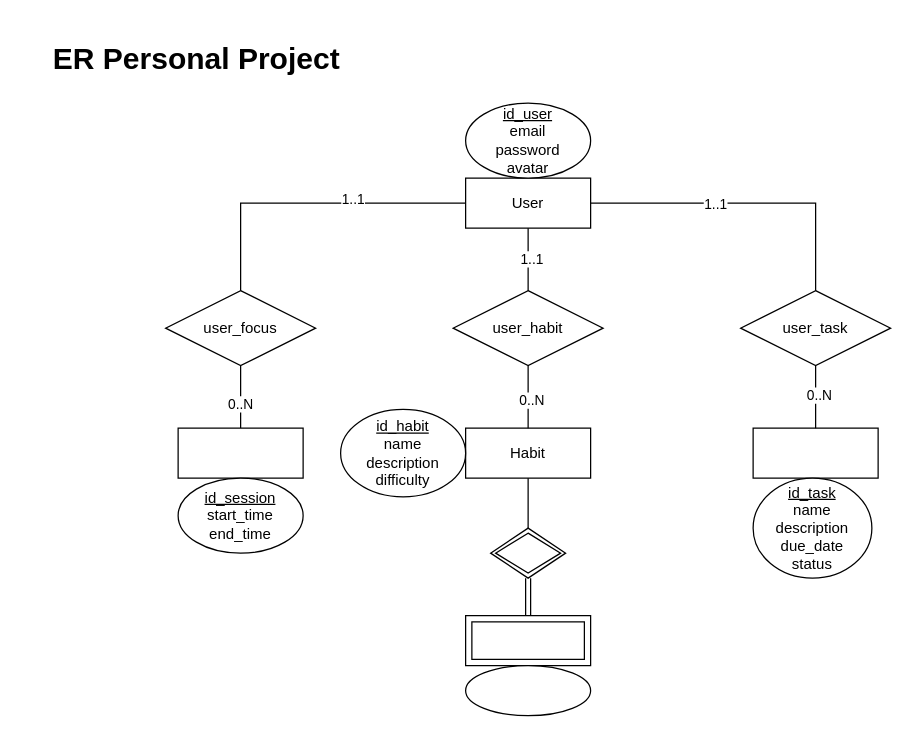
This 913x739 diagram has some shape labels left out. The centre of each missing label's shape, as x and y in pixels:
"Focus_Session" belongs at (240,452).
"Habit_Log" belongs at (527,640).
"status date_completed" belongs at (527,690).
"Task" belongs at (815,452).
